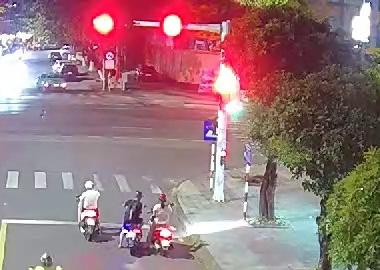red_light: (214, 58, 241, 113), (156, 10, 181, 40), (91, 13, 116, 36)
stop_line: (2, 215, 189, 233)
